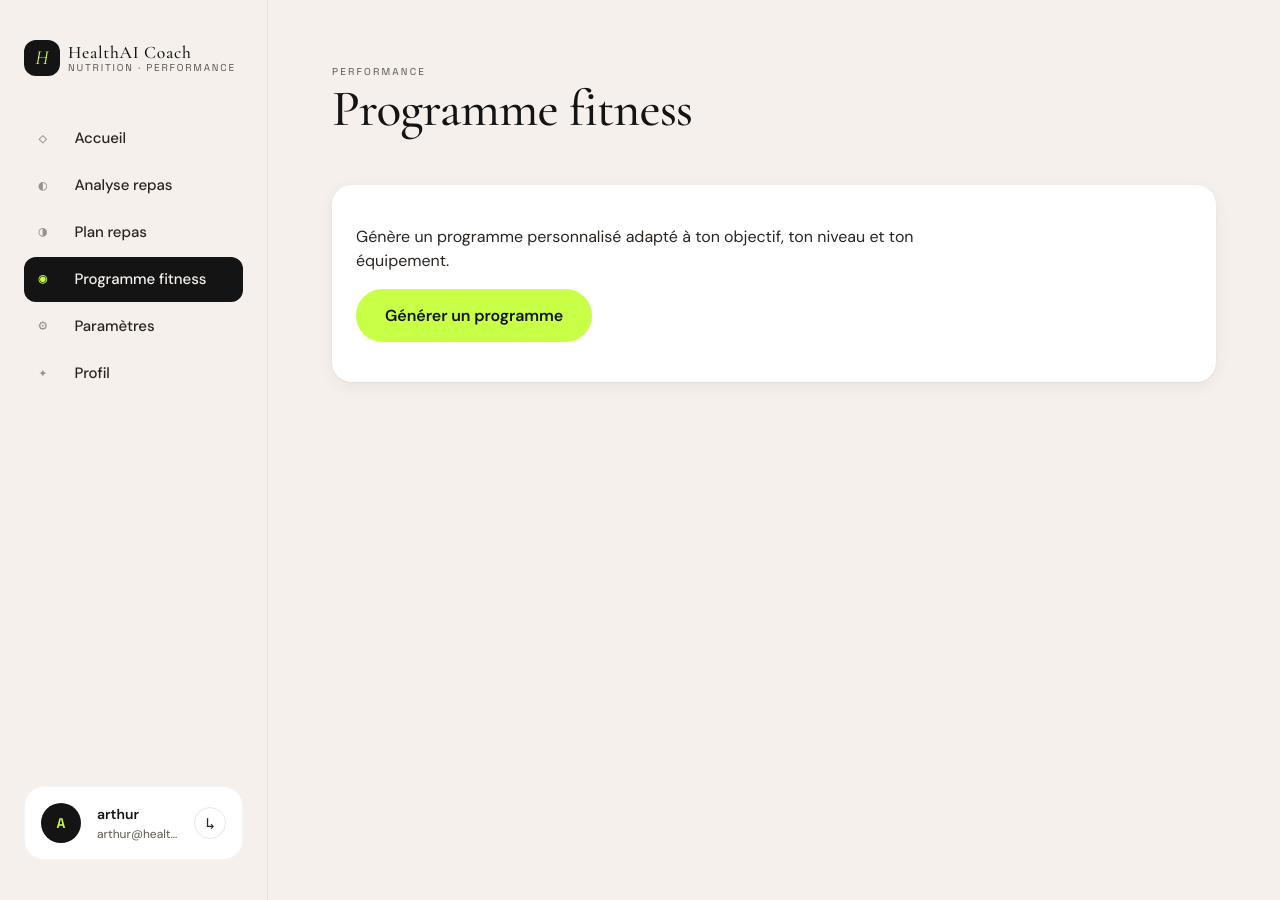
Test case: FitnessProgramView › clicking the CTA POSTs to /api/v1/recommendations and renders the resulting program
The image size is (1280, 900).
Click the button with test id "generate-program-cta": (474, 316) [356,289,592,342]
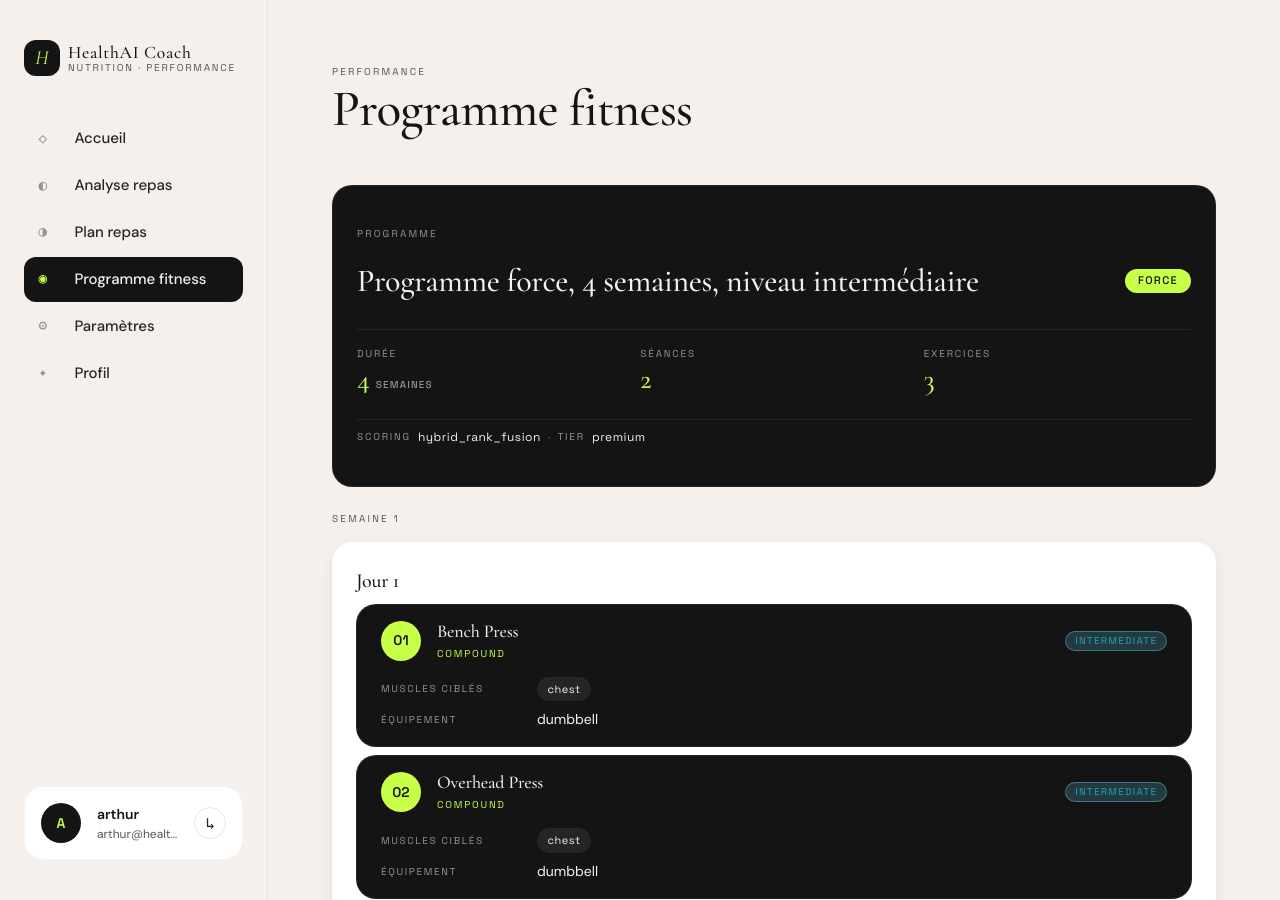
Check: the element with test id "program-summary" is shown, box [332,185,1216,487]
Check: the element with test id "program-summary" shows "Programme force, 4 semaines, niveau intermédiaire", box [357,261,979,300]
Check: the text "Bench Press" is shown, box [437,620,518,642]
